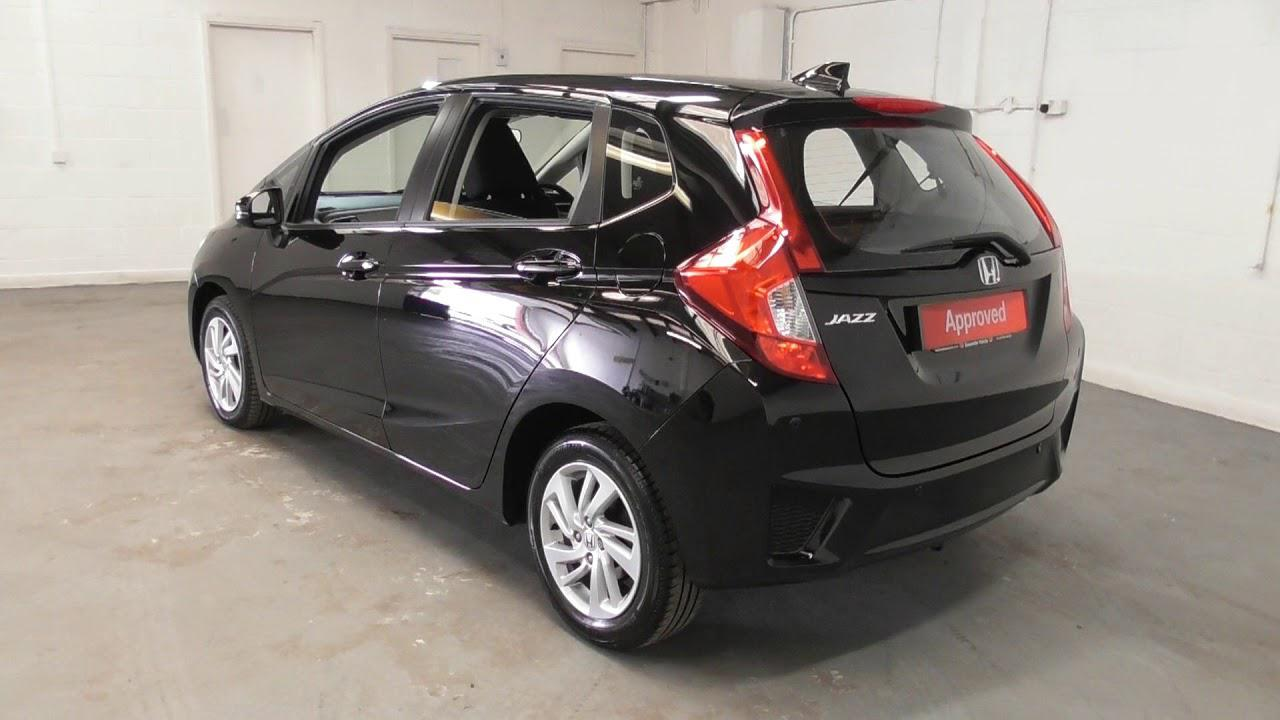Hatchback: (166, 55, 1105, 664)
